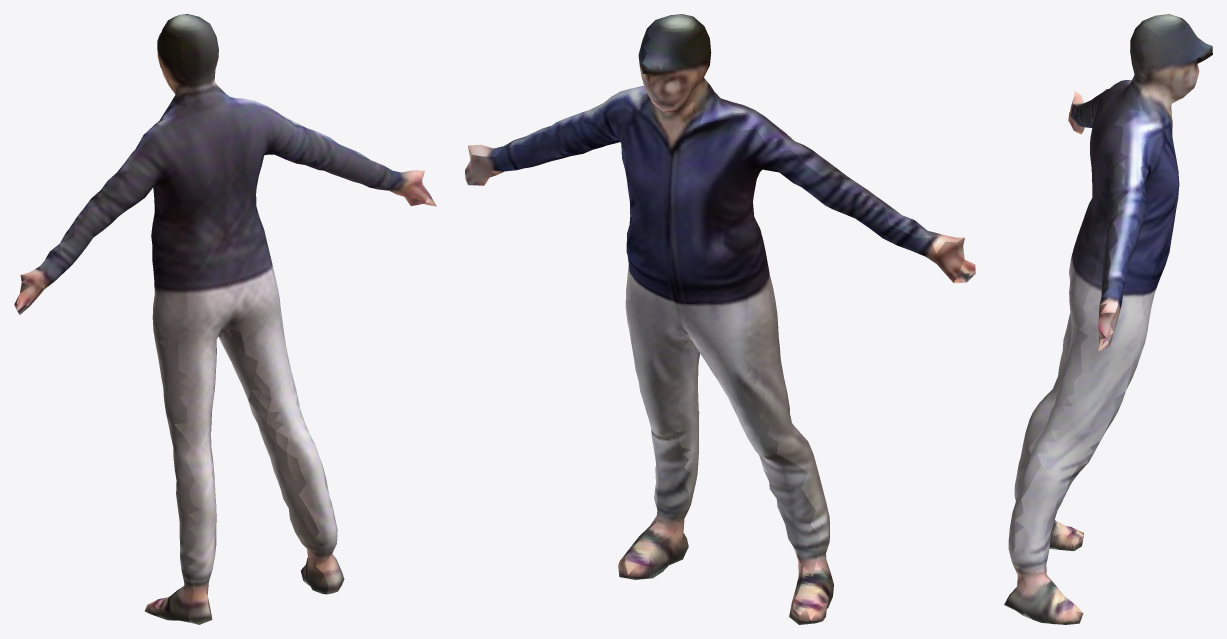
The picture shows the model from 3 angles, left to right: view 1: azimuth 30°, elevation 25°; view 2: azimuth 150°, elevation 25°; view 3: azimuth 270°, elevation 25°; orthographic projection. The views are drawn at different scales.
Visible parts, largest first — view 1: world; view 2: world; view 3: world.
Part boxes in pixels (x1,y1,x2,y2): world: (14,14,436,624); world: (465,14,975,624); world: (1004,14,1212,624).
Size of the model in its own units: 0.8279 by 0.9949 by 0.3345.
Materials: 1 (1 with a texture image).
